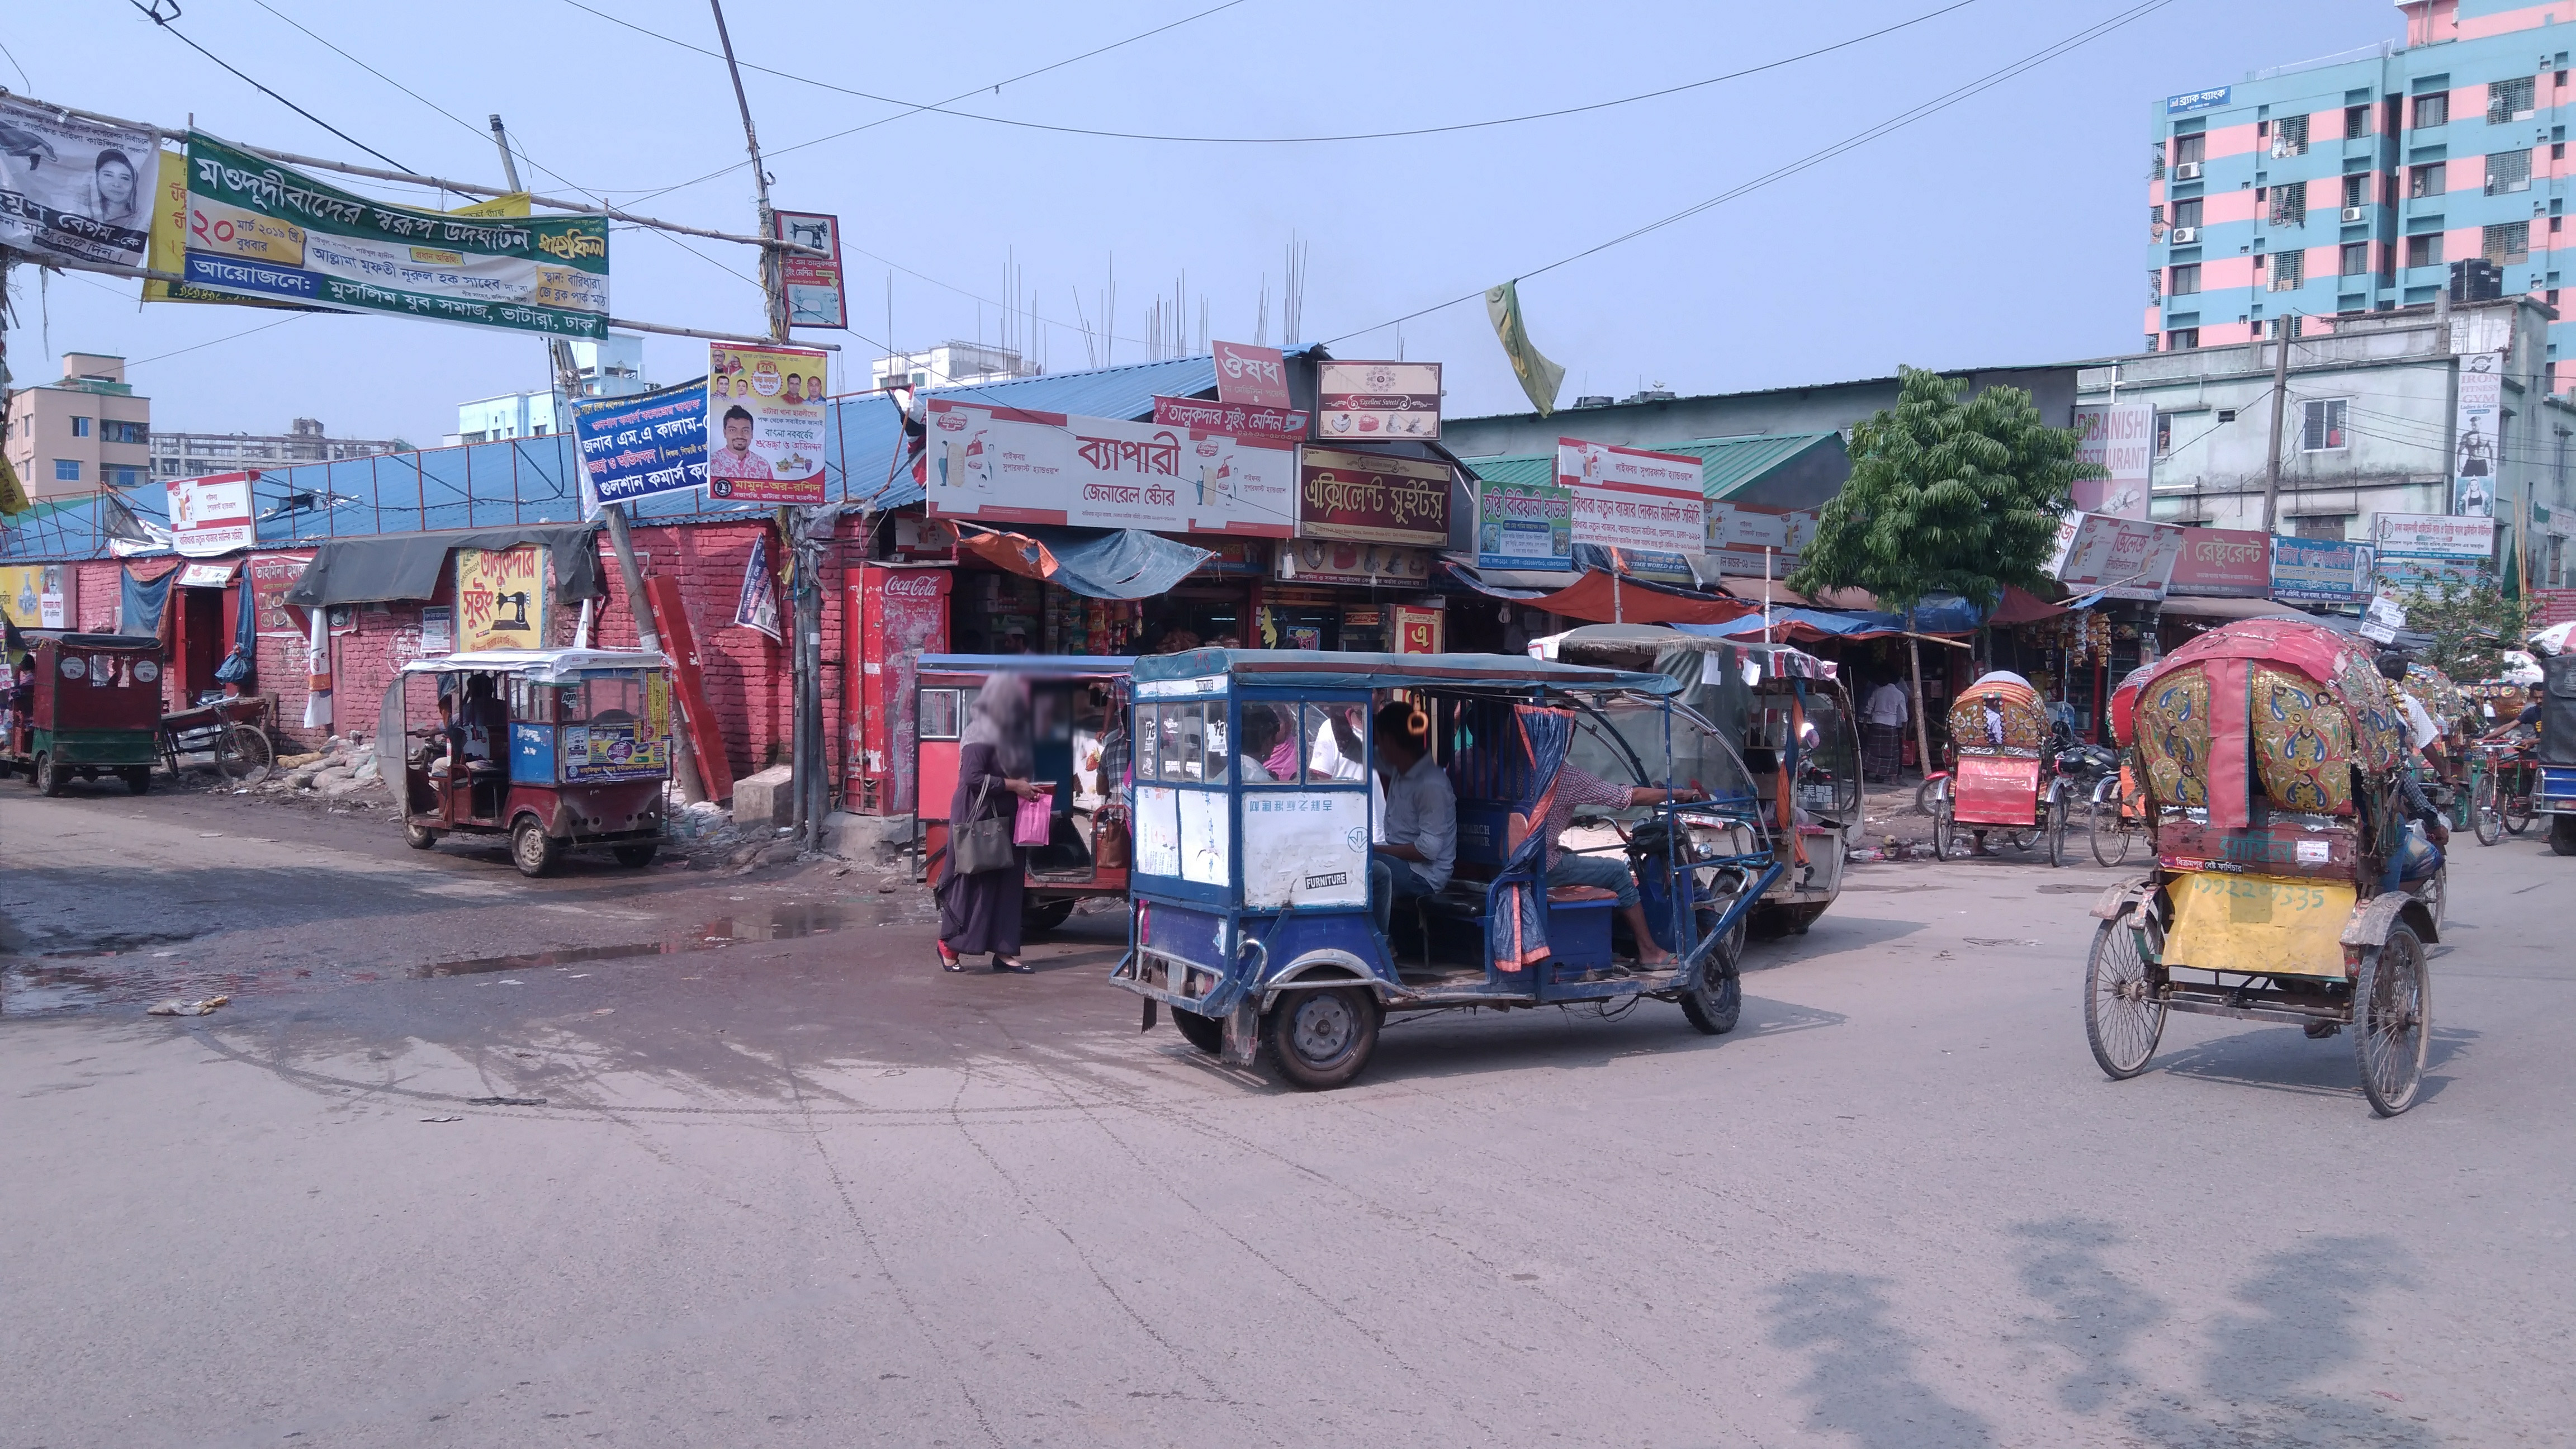easybike: (1115, 648, 1785, 1090), (1530, 625, 1870, 936), (372, 644, 679, 870), (913, 648, 1123, 950), (5, 628, 173, 793), (2523, 658, 2576, 853)
rickshaw: (2082, 625, 2449, 1120), (1930, 671, 2079, 869)
van: (173, 690, 271, 793)
